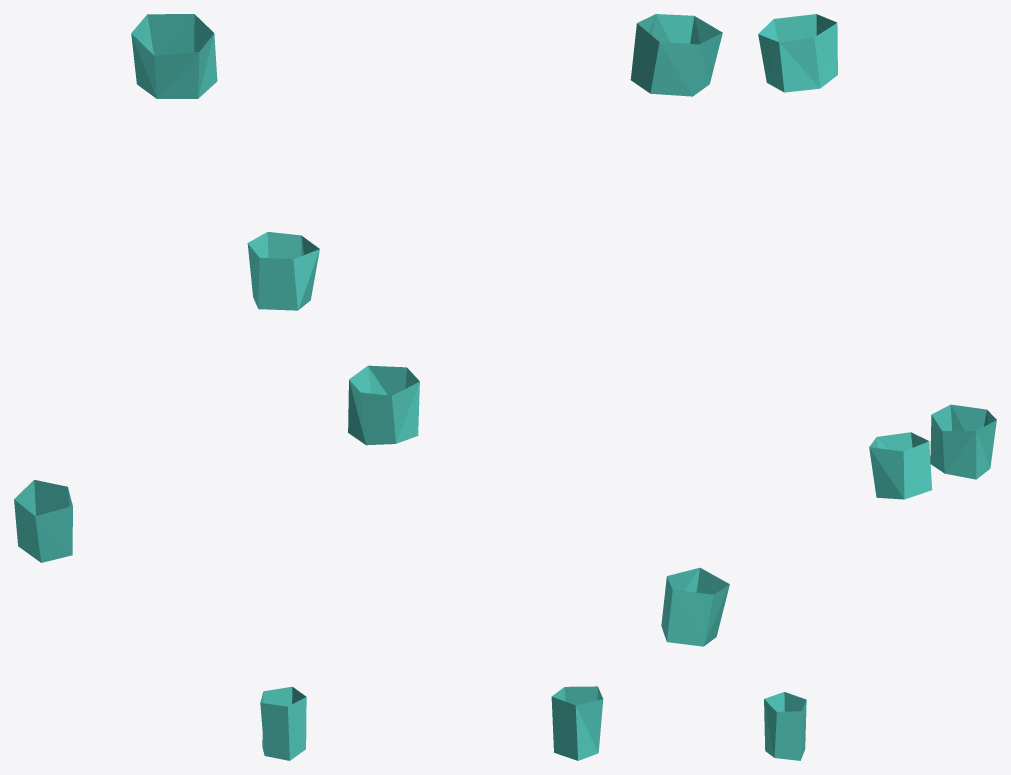
Rendered from coral_pillar_teal_glow.fbx.
The picture shows the model from 3 angles, left to right: view 1: azimuth 30°, elevation 25°; view 2: azimuth 150°, elevation 25°; view 3: azimuth 270°, elevation 25°; orthographic projection. The views are drawn at different scales.
Visible parts, largest first — view 1: coral_pillar_teal_glow; view 2: coral_pillar_teal_glow; view 3: coral_pillar_teal_glow.
Part boxes in pixels (left/top/right/bottom): coral_pillar_teal_glow: left=14, top=14, right=319, bottom=760; coral_pillar_teal_glow: left=348, top=14, right=729, bottom=760; coral_pillar_teal_glow: left=758, top=14, right=996, bottom=760.
Size of the model in its own units: 641 by 1409 by 446.
Materials: 1 (1 with a texture image).
